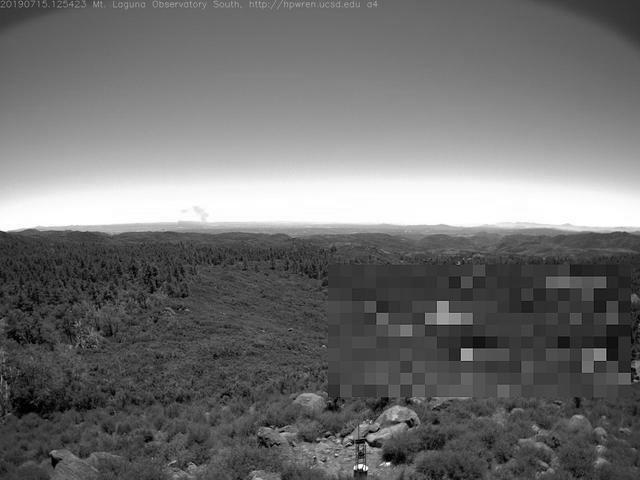smoke: (180, 204, 214, 230)
